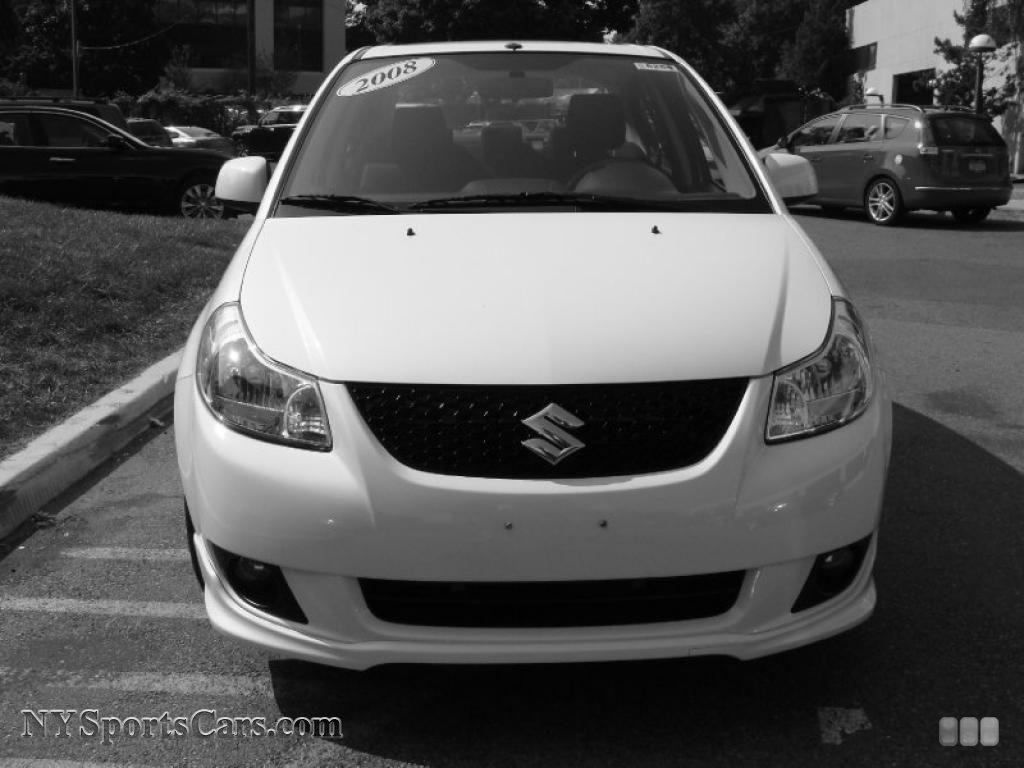car: (170, 37, 882, 656)
